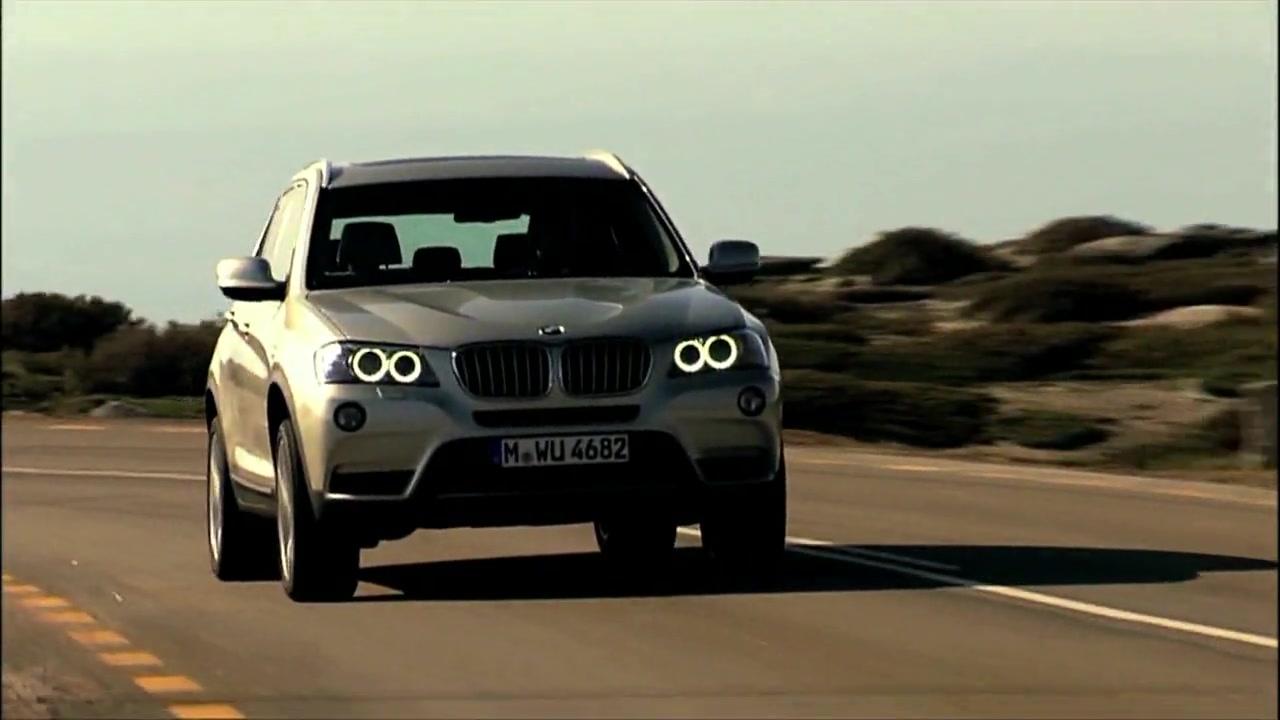car: (202, 147, 798, 597)
